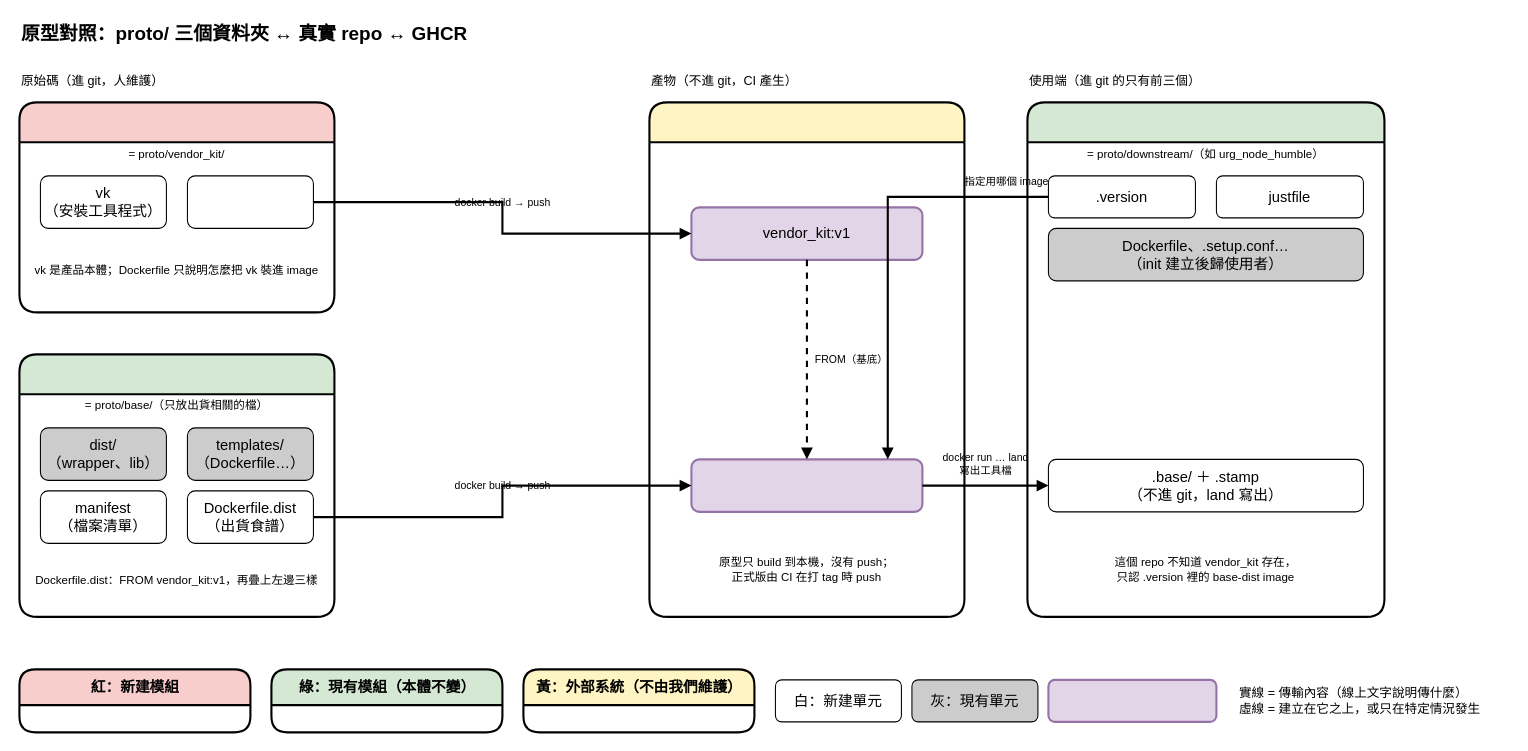
Image size: 1528x751. Some labels were removed from this diagram. The box of each missing label's shape, as (x1, y1, x2, y2) in pixels:
base repo: (18, 353, 335, 617)
base-dist:v0.1.0: (690, 458, 923, 512)
Dockerfile （打包食譜）: (186, 175, 313, 228)
downstream repo: (1026, 101, 1385, 617)
GHCR（image 倉庫）: (648, 101, 965, 617)
vendor_kit repo: (18, 101, 335, 313)
紫：image / container: (1047, 678, 1217, 722)
